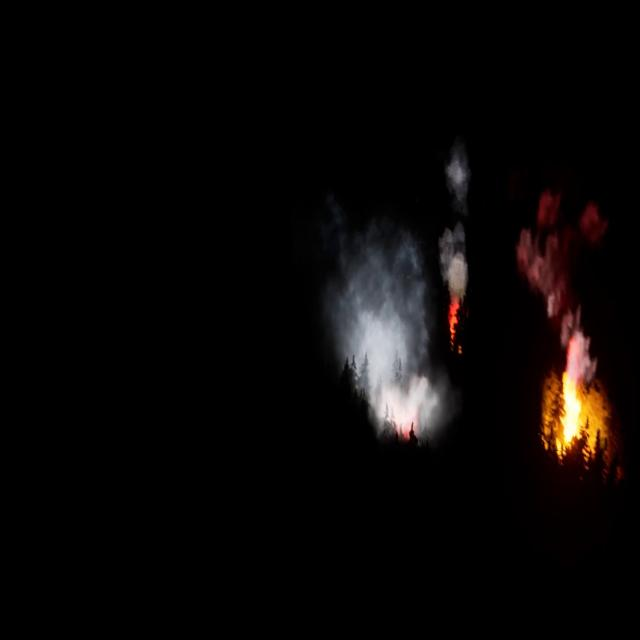fire: (559, 376, 590, 444), (449, 301, 467, 354)
smoke: (327, 231, 454, 440), (518, 188, 610, 368), (440, 150, 473, 294)
